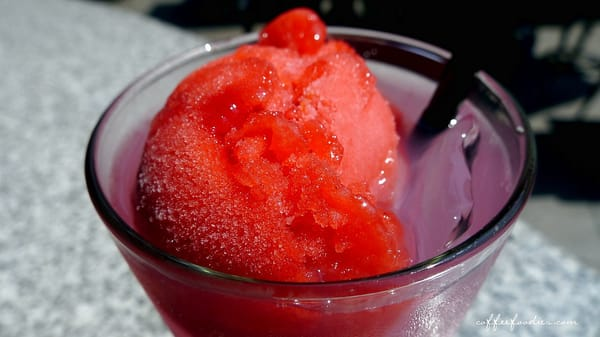sushi: (87, 20, 537, 333)
